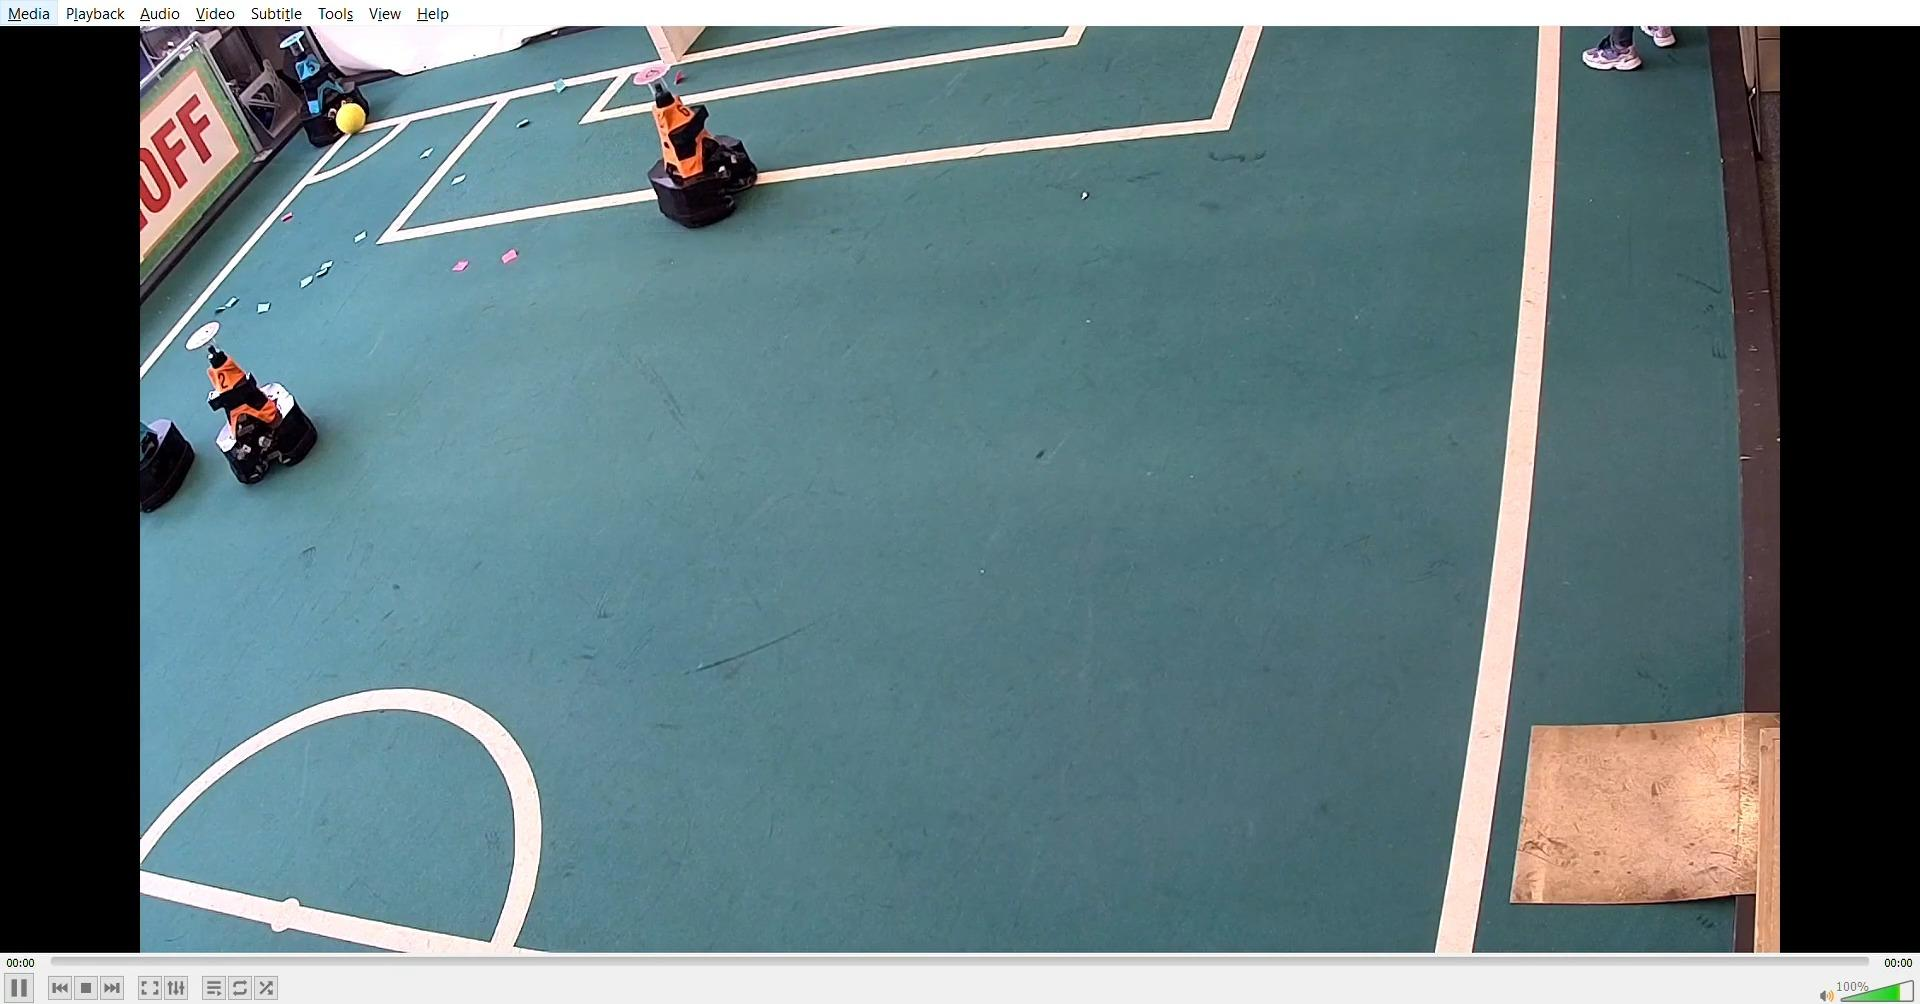Ball: (333, 100, 375, 149)
Team_Blue: (273, 30, 378, 149)
Team_Red: (179, 310, 331, 490), (632, 58, 763, 227)
